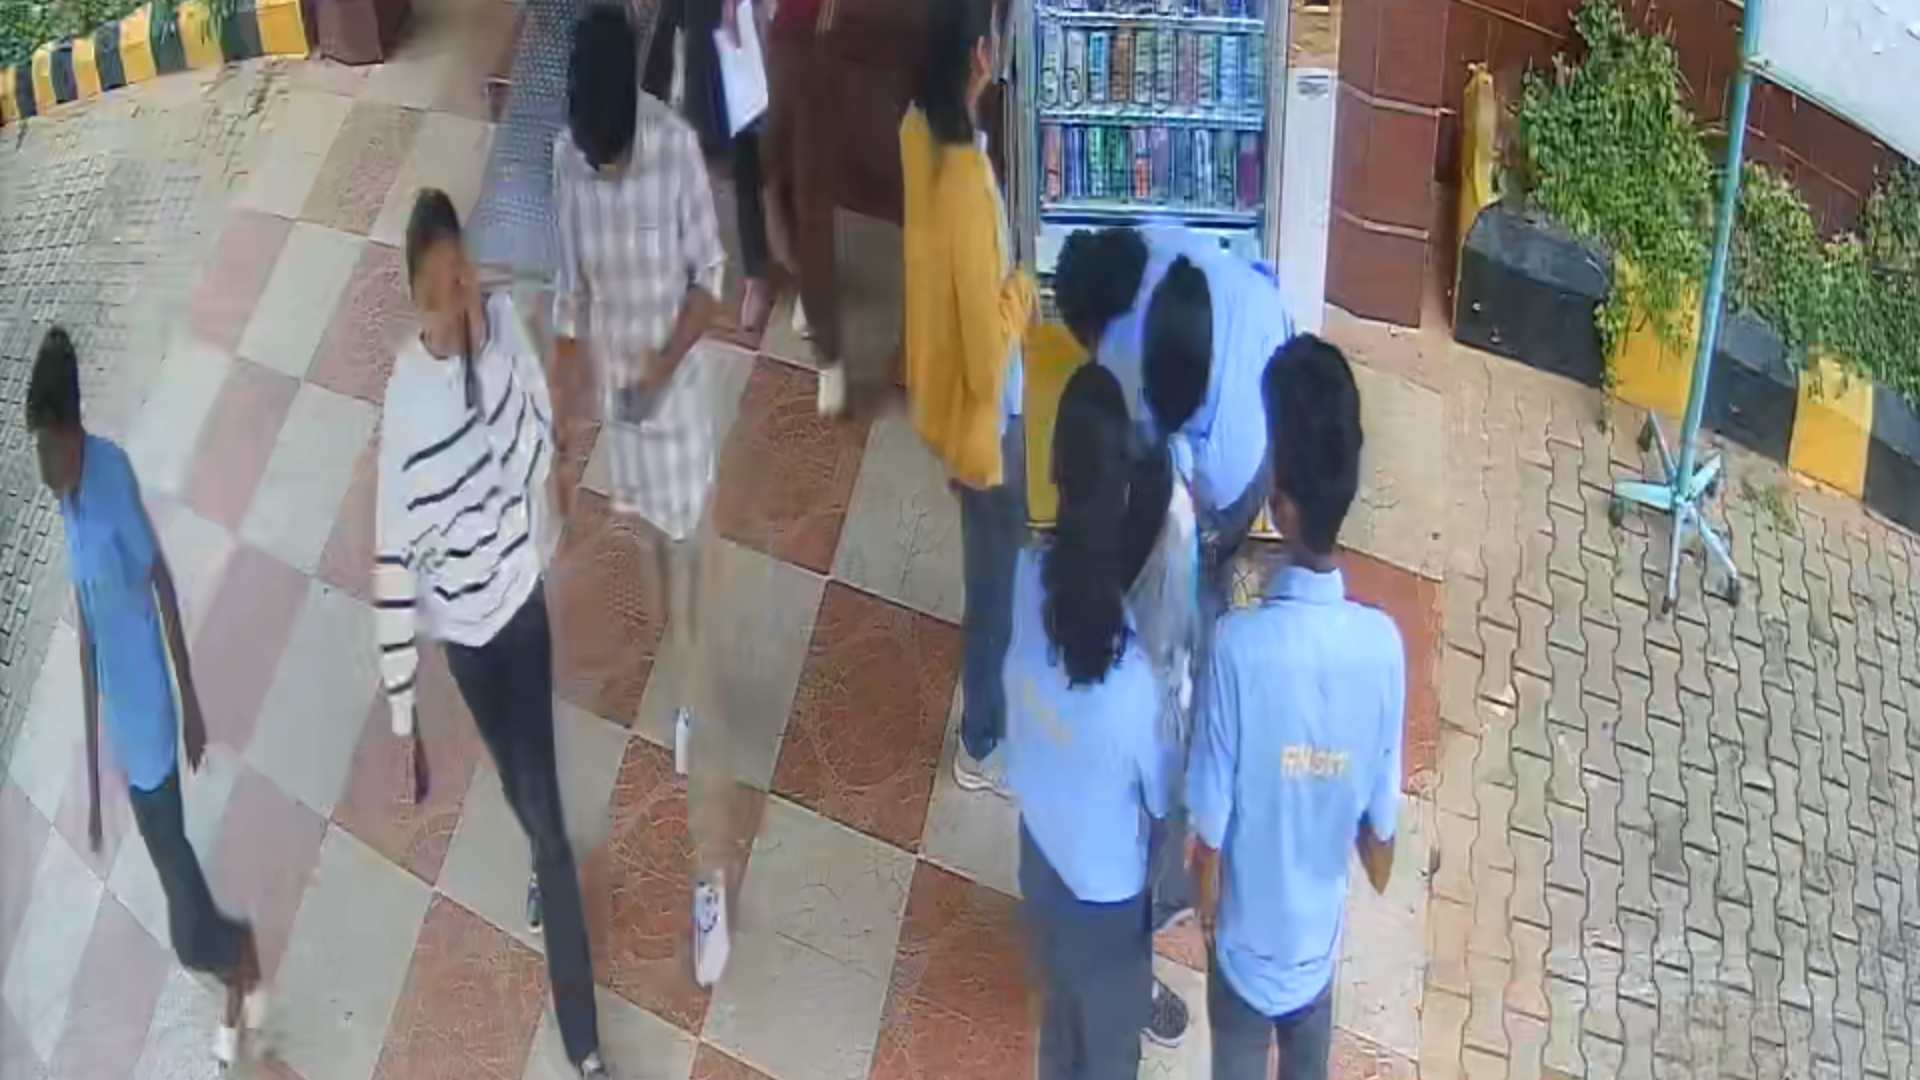intruder: (363, 203, 629, 1073), (12, 320, 313, 1080), (542, 33, 760, 1014)
